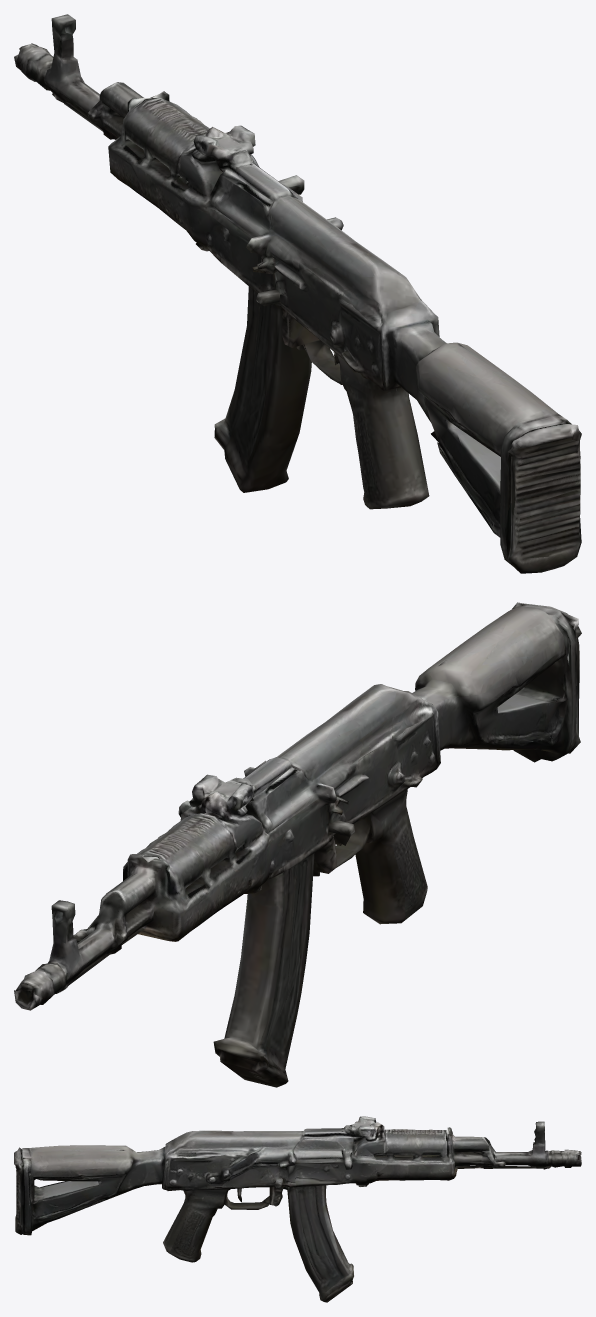
3 views of the same model, one above another, from view 1: azimuth 30°, elevation 25°; view 2: azimuth 150°, elevation 25°; view 3: azimuth 270°, elevation 25° (orthographic). The views are drawn at different scales.
Visible parts, largest first — view 1: tripo_node_25149aee-1a99-4b4f-b6f4-936dabe8a874; view 2: tripo_node_25149aee-1a99-4b4f-b6f4-936dabe8a874; view 3: tripo_node_25149aee-1a99-4b4f-b6f4-936dabe8a874.
Boxes of the visible parts, x1,y1,x2,y2 form: tripo_node_25149aee-1a99-4b4f-b6f4-936dabe8a874: [14, 14, 581, 573]; tripo_node_25149aee-1a99-4b4f-b6f4-936dabe8a874: [14, 602, 581, 1087]; tripo_node_25149aee-1a99-4b4f-b6f4-936dabe8a874: [14, 1116, 581, 1302].
Bounding box in the file's own units: 0.1195 × 0.3382 × 0.9851.
Materials: 1 (1 with a texture image).
